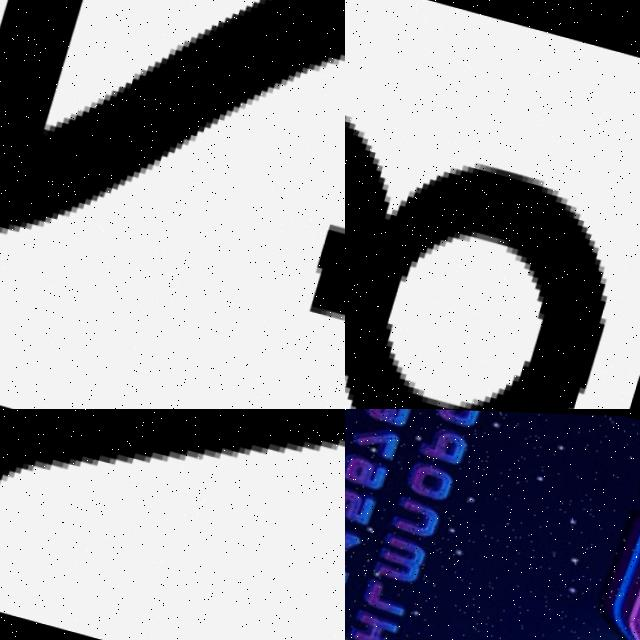2: (0, 0, 345, 375)
4: (345, 513, 374, 567)
5: (345, 480, 383, 526)
6: (345, 448, 392, 491)
7: (349, 416, 410, 464)
8: (345, 37, 640, 409), (357, 409, 413, 428)
F: (0, 409, 345, 640)
